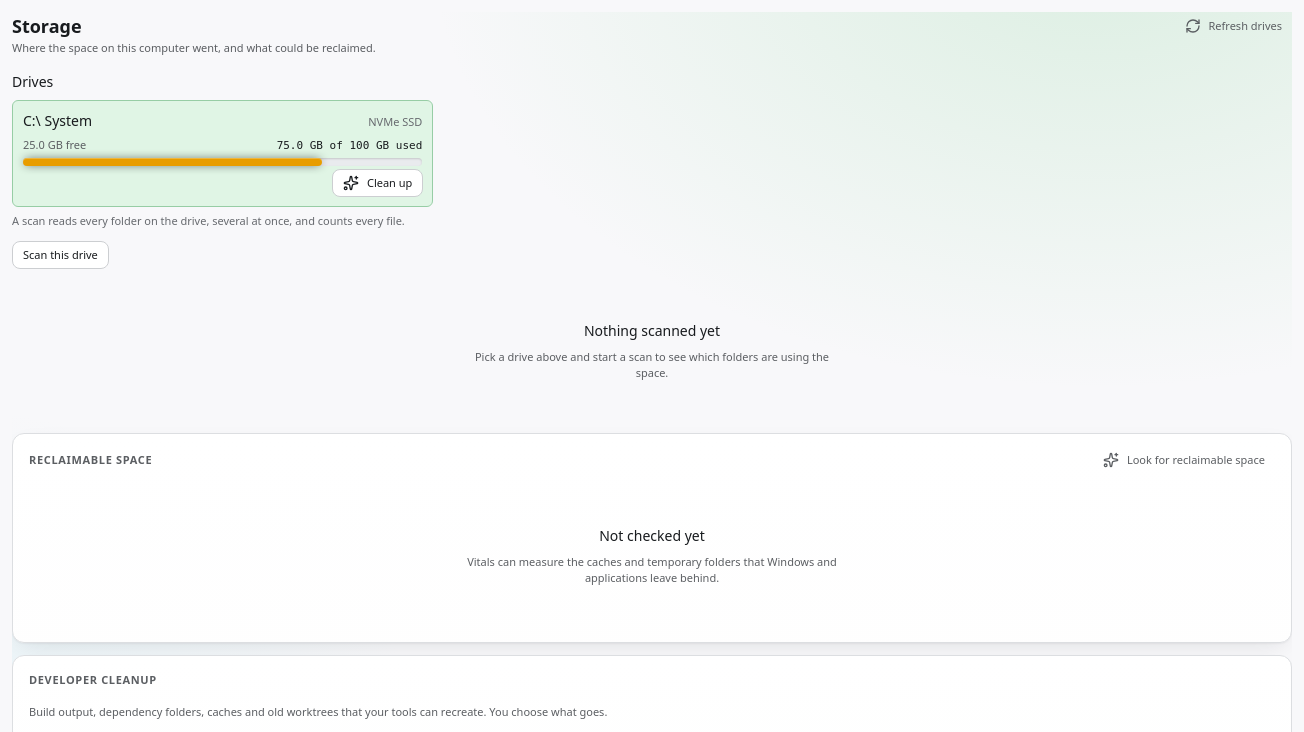
StorageScreen › scanning › reports progress and offers cancel while running
Expected: the heading "Storage" is shown, [12,14,82,38]
Click the button "Scan this drive" at (60, 255), box [12,241,109,269]
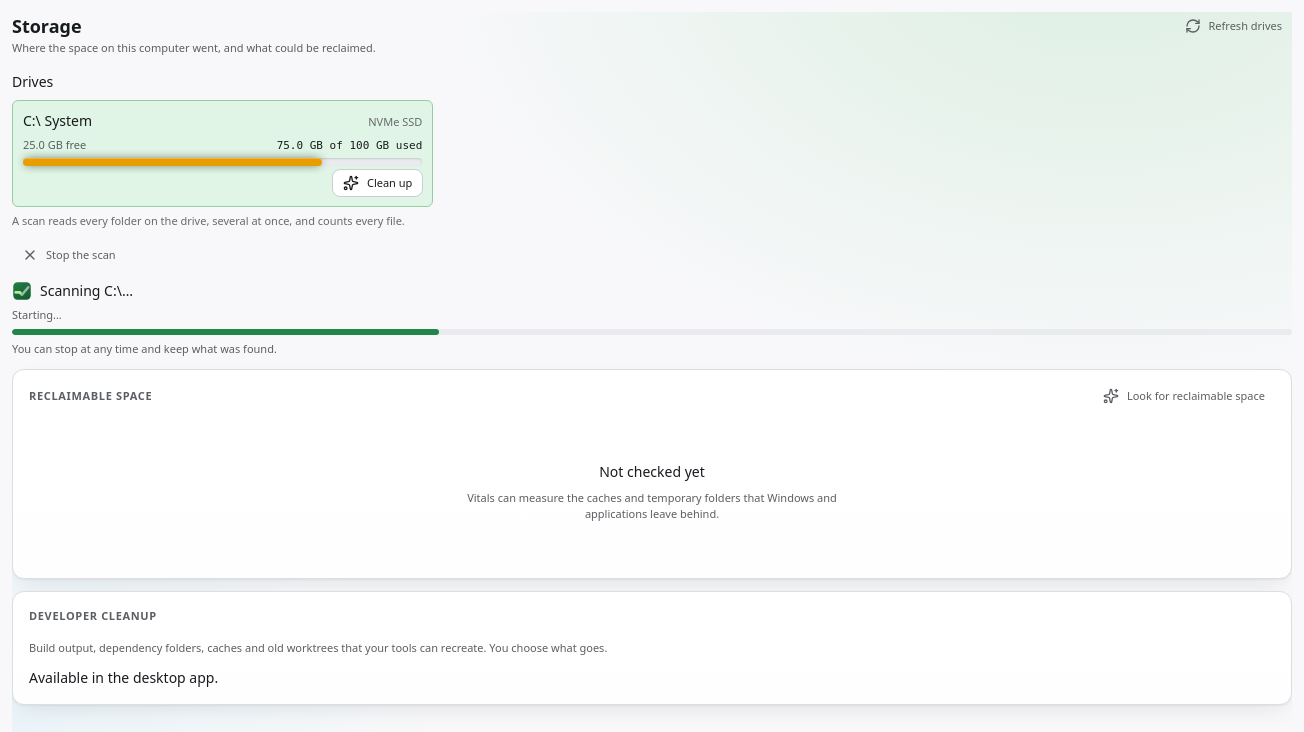
Expected: the text "Scanning C:\\…" is shown, [12,281,133,301]
Expected: the button "Stop the scan" is shown, [12,241,126,269]
